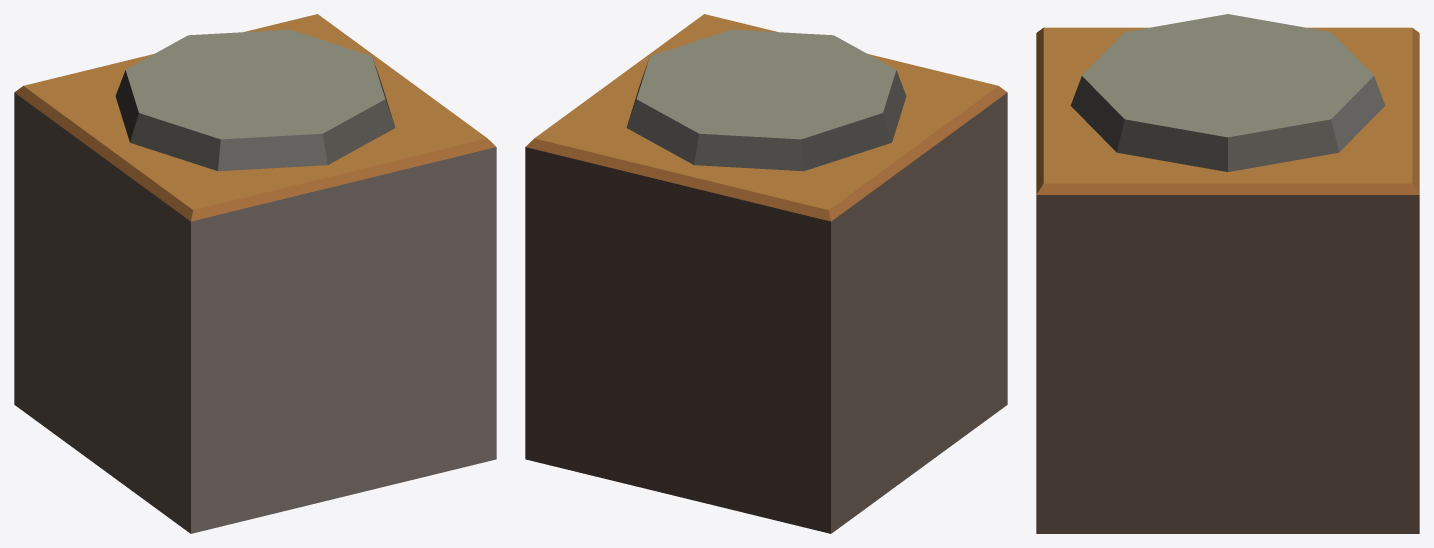
File: base_earth.FBX
The picture shows the model from 3 angles, left to right: view 1: azimuth 30°, elevation 25°; view 2: azimuth 150°, elevation 25°; view 3: azimuth 270°, elevation 25°; orthographic projection. The views are drawn at different scales.
Visible parts, largest first — view 1: base_earth; view 2: base_earth; view 3: base_earth.
Part boxes in pixels (<box>): base_earth: <box>14,14,496,533</box>; base_earth: <box>525,14,1007,533</box>; base_earth: <box>1036,14,1419,533</box>.
Bounding box in the file's own units: 100 × 109 × 100.
